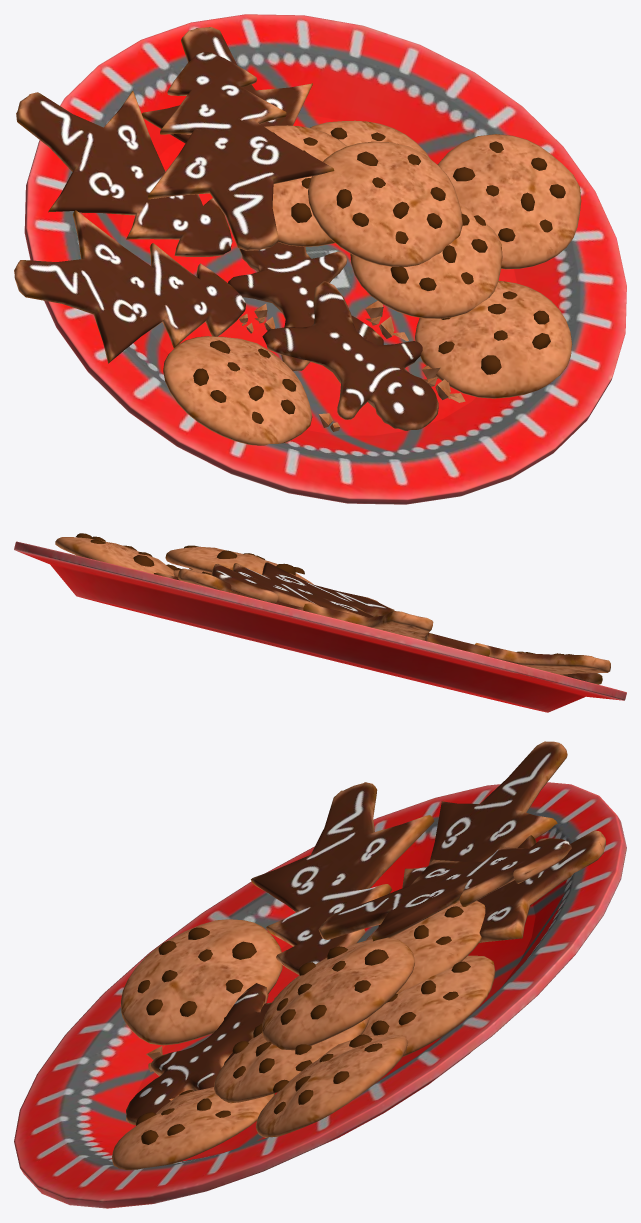
3 views of the same model, one above another, from view 1: azimuth 30°, elevation 25°; view 2: azimuth 150°, elevation 25°; view 3: azimuth 270°, elevation 25° (orthographic). The views are drawn at different scales.
Visible parts, largest first — view 1: Circle_Xma Cookie 23_Material_0; view 2: Circle_Xma Cookie 23_Material_0; view 3: Circle_Xma Cookie 23_Material_0.
Boxes of the visible parts, x1,y1,x2,y2 form: Circle_Xma Cookie 23_Material_0: [14, 14, 626, 504]; Circle_Xma Cookie 23_Material_0: [14, 533, 626, 712]; Circle_Xma Cookie 23_Material_0: [14, 741, 626, 1208].
Bounding box in the file's own units: 1.44 × 0.6806 × 1.21.
Materials: 1 (1 with a texture image).
